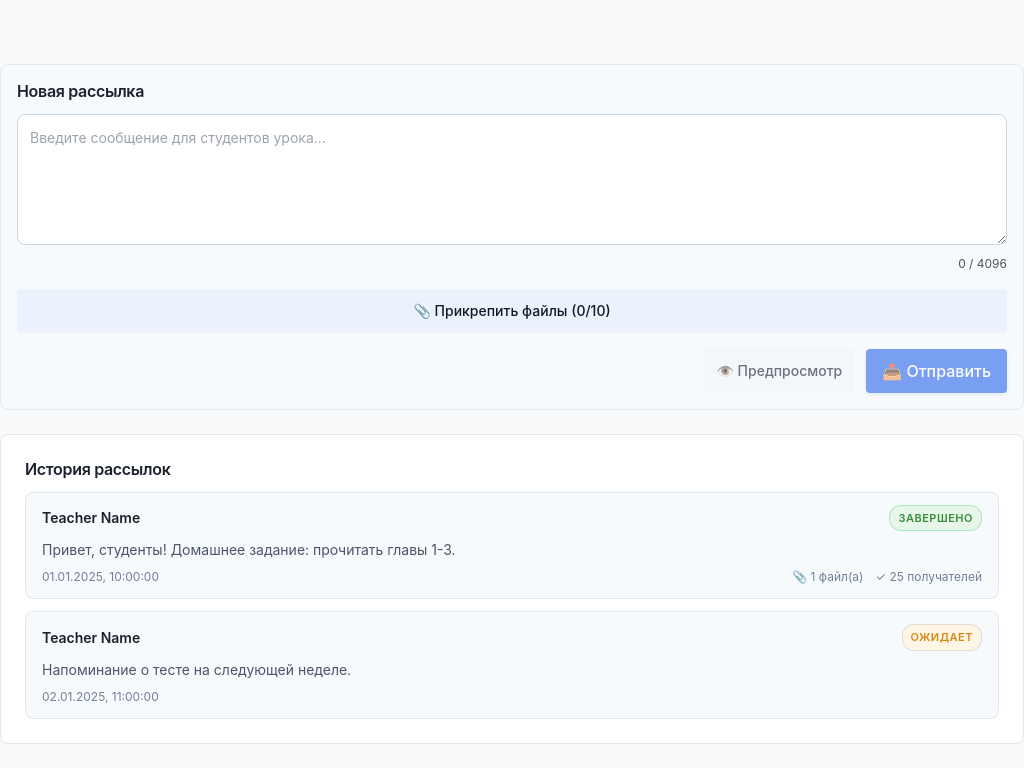
Test: BroadcastSection › Preview › should close preview modal
Type "Test message" into the text box with placeholder "Введите сообщение для студентов урока...". click: (512, 179)
box: [17,114,1007,245]
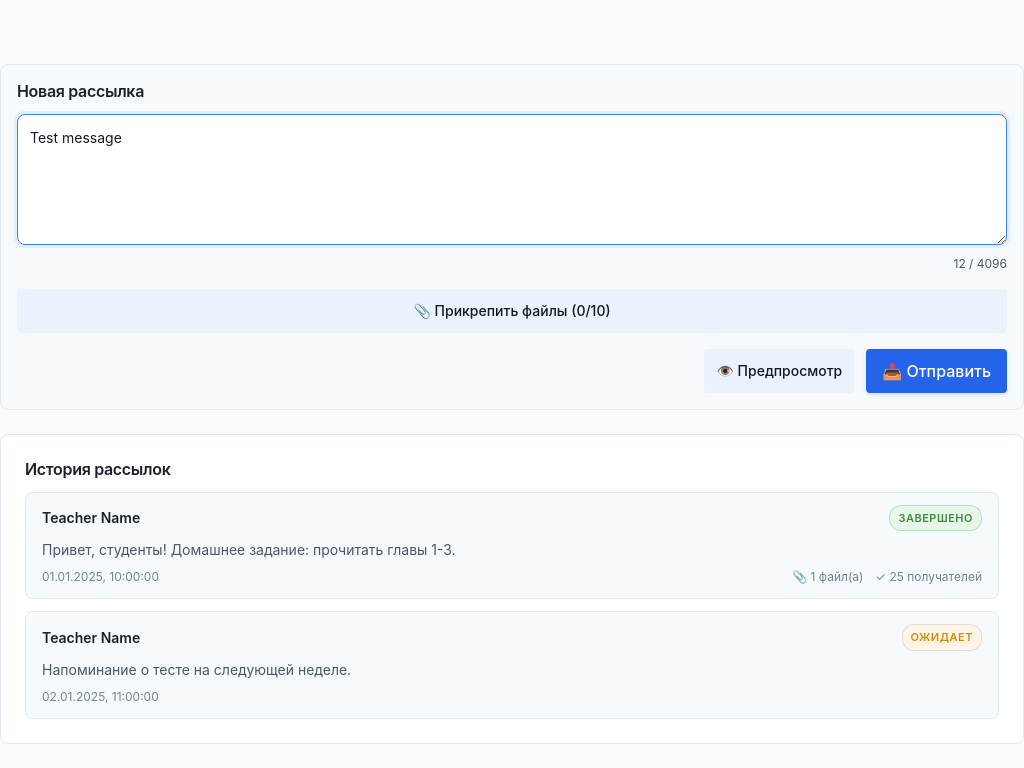
Click the button "👁️ Предпросмотр". click: (779, 371)
box: [704,349,854,393]
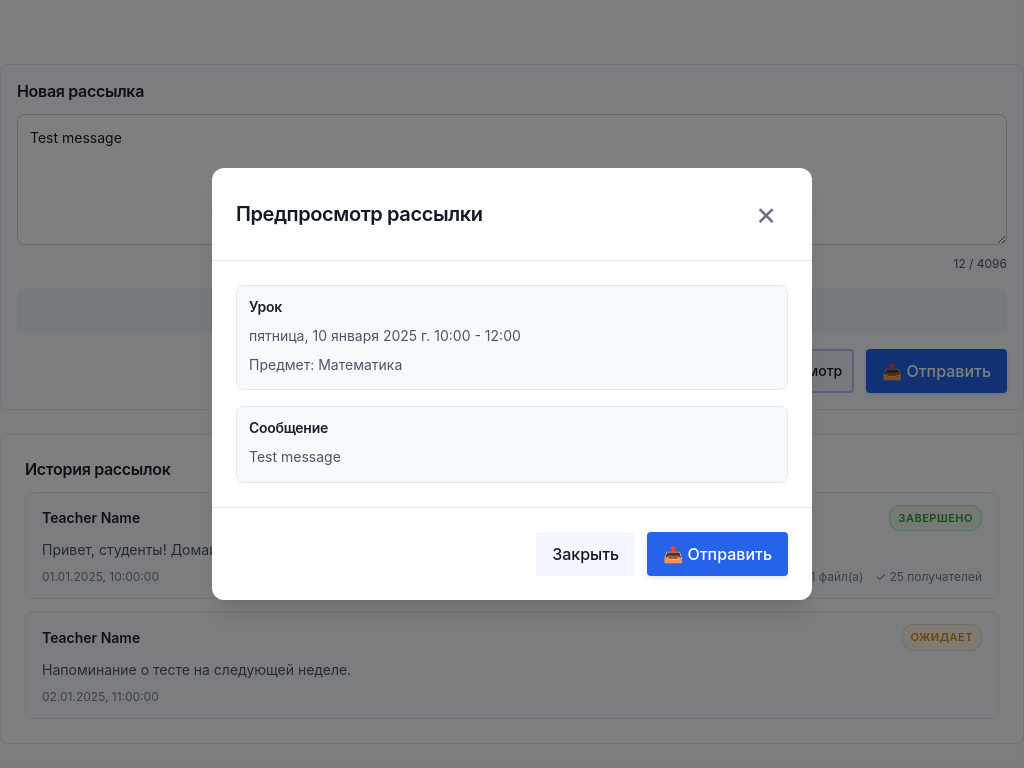
Expected: the heading "Предпросмотр рассылки" is shown, [236,201,482,227]
Click the button "Закрыть". click: (586, 554)
box: [536,532,635,576]
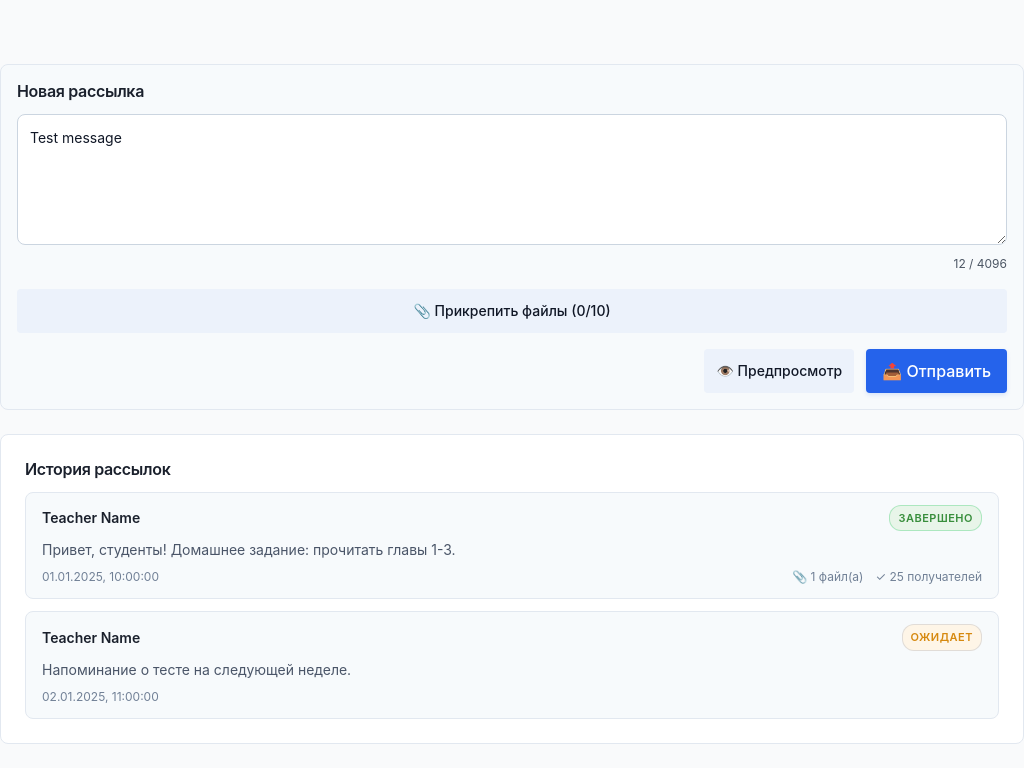
Expected: the heading "Предпросмотр рассылки" is gone
